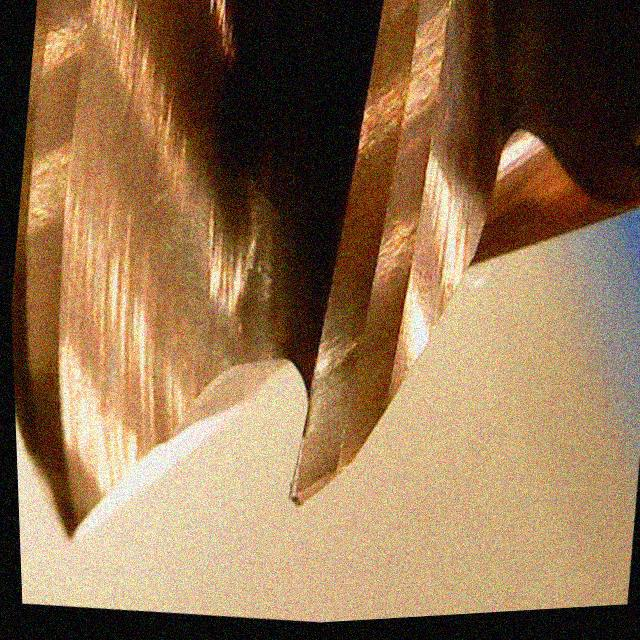Tool-wear-class-1: (271, 294, 436, 532)
